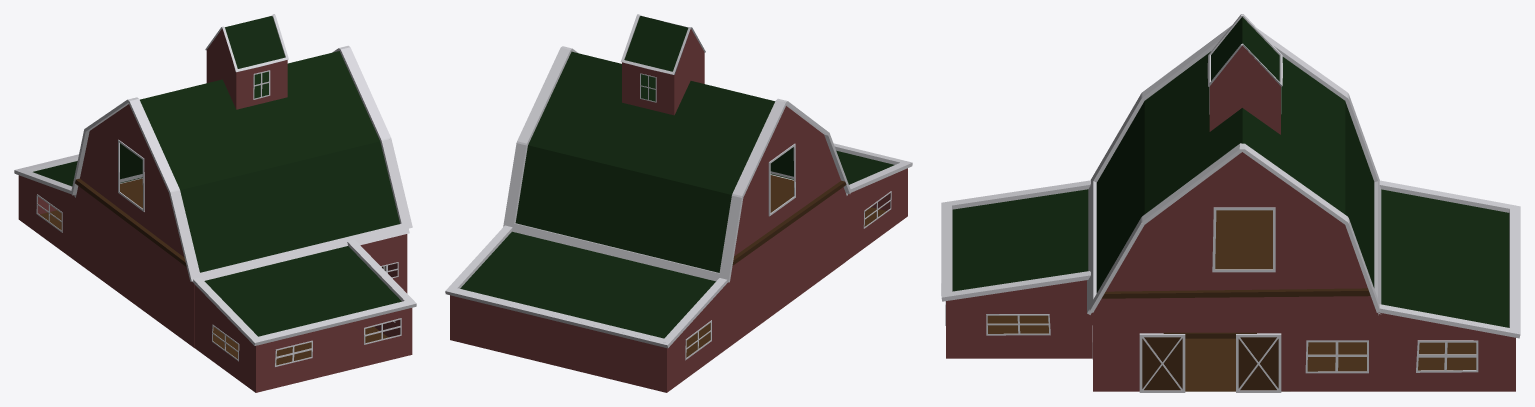
The model's file is Building_FarmMain.fbx.
3 renders of one model, left to right at view 1: azimuth 30°, elevation 25°; view 2: azimuth 150°, elevation 25°; view 3: azimuth 270°, elevation 25°, orthographic. The views are drawn at different scales.
Visible parts, largest first — view 1: Cube; view 2: Cube; view 3: Cube.
Part boxes in pixels (bbox=[...]): Cube: bbox=[14, 14, 416, 392]; Cube: bbox=[445, 14, 912, 392]; Cube: bbox=[941, 14, 1520, 392].
Size of the model in its own units: 2639 by 2893 by 4975.
